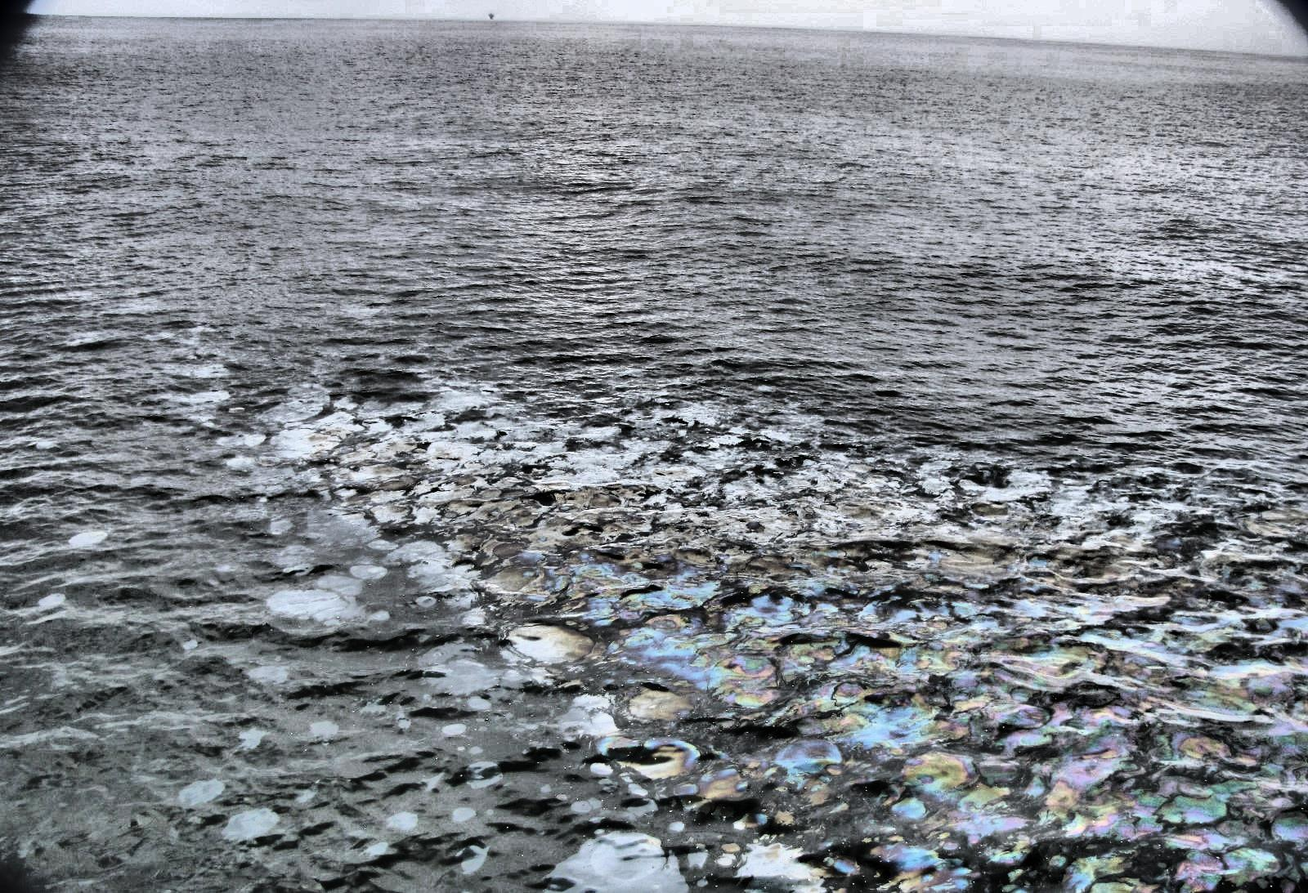rainbow: (562, 540, 1308, 893)
